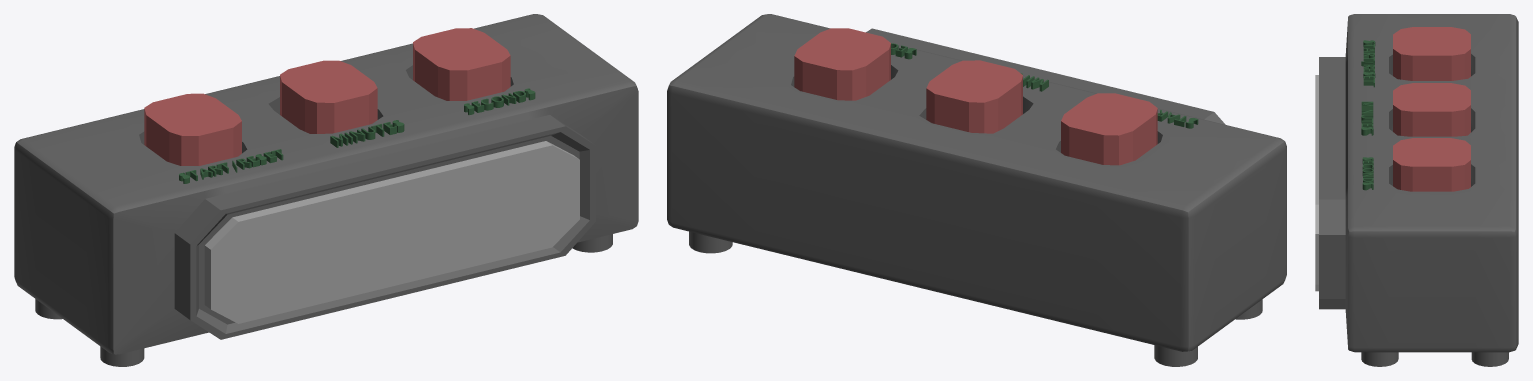
Rendered from SM_TimerBetter.fbx.
The picture shows the model from 3 angles, left to right: view 1: azimuth 30°, elevation 25°; view 2: azimuth 150°, elevation 25°; view 3: azimuth 270°, elevation 25°; orthographic projection. The views are drawn at different scales.
Visible parts, largest first — view 1: SM_TimerBase, SM_TimerFace, SM_ButtonMiddle, SM_ButtonRight, SM_ButtonLeft, SM_TimerLetters; view 2: SM_TimerBase, SM_ButtonMiddle, SM_ButtonRight, SM_ButtonLeft, SM_TimerLetters; view 3: SM_TimerBase, SM_ButtonMiddle, SM_ButtonLeft, SM_ButtonRight, SM_TimerLetters, SM_TimerFace.
Boxes of the visible parts, x1,y1,x2,y2 form: SM_TimerBase: (14, 14, 638, 366); SM_TimerFace: (204, 141, 579, 323); SM_ButtonMiddle: (280, 60, 377, 133); SM_ButtonRight: (413, 28, 510, 100); SM_ButtonLeft: (144, 93, 241, 165); SM_TimerLetters: (179, 88, 535, 183); SM_TimerBase: (667, 14, 1286, 366); SM_ButtonMiddle: (926, 60, 1022, 133); SM_ButtonRight: (794, 28, 890, 100); SM_ButtonLeft: (1061, 93, 1157, 165); SM_TimerLetters: (891, 43, 1198, 128); SM_TimerBase: (1319, 14, 1518, 366); SM_ButtonMiddle: (1393, 83, 1470, 136); SM_ButtonLeft: (1393, 27, 1470, 80); SM_ButtonRight: (1393, 138, 1470, 191); SM_TimerLetters: (1361, 40, 1375, 190); SM_TimerFace: (1315, 75, 1318, 291).
Bounding box in the file's own units: 30 × 10.56 × 11.75.
